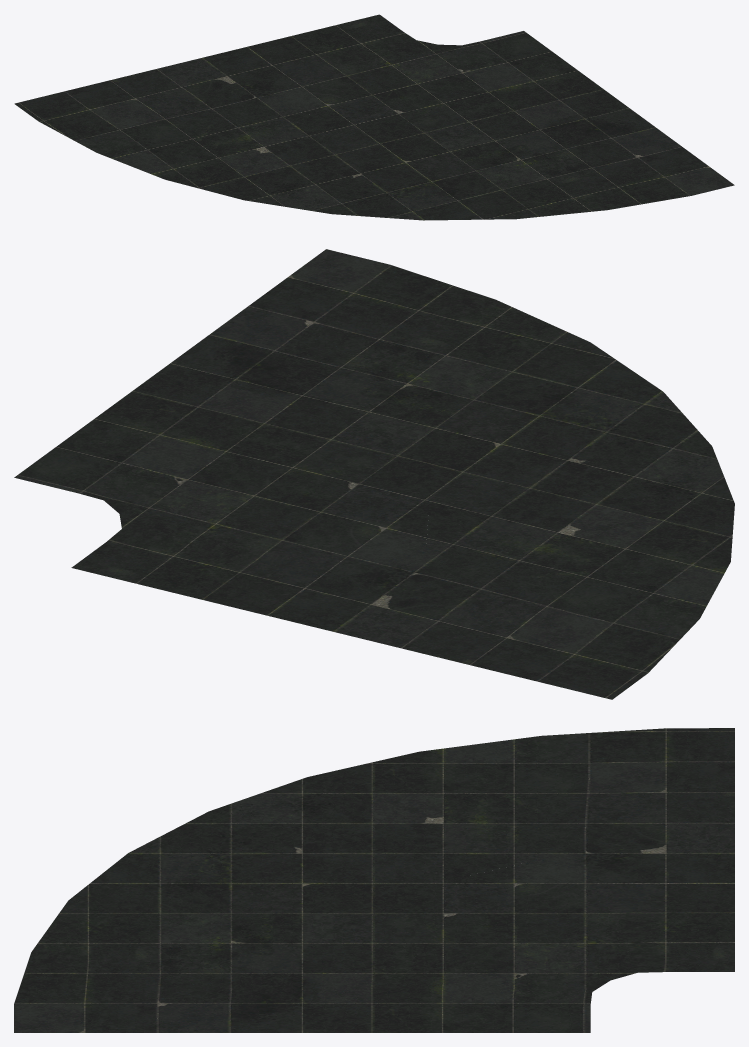
File: urban_damaged_curved_floor.dae
3 views of the same model, one above another, from view 1: azimuth 30°, elevation 25°; view 2: azimuth 150°, elevation 25°; view 3: azimuth 270°, elevation 25° (orthographic). The views are drawn at different scales.
Visible parts, largest first — view 1: polySurface649; view 2: polySurface649; view 3: polySurface649.
Part boxes in pixels (left/top/right/bottom): polySurface649: left=14, top=14, right=734, bottom=220; polySurface649: left=14, top=249, right=734, bottom=699; polySurface649: left=14, top=728, right=734, bottom=1032.
Bounding box in the file's own units: 3.75 × 0 × 3.75.
